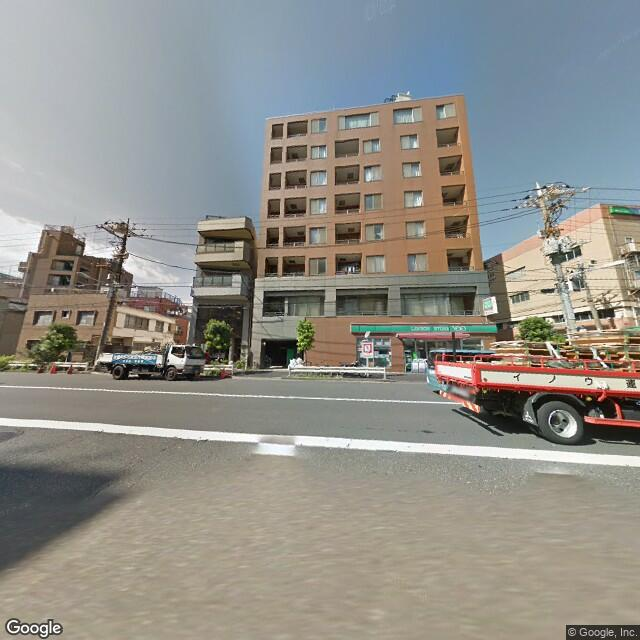lawson: (348, 314, 501, 339)
